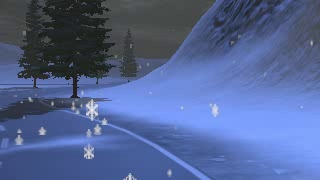Lane: (0, 84, 205, 179)
